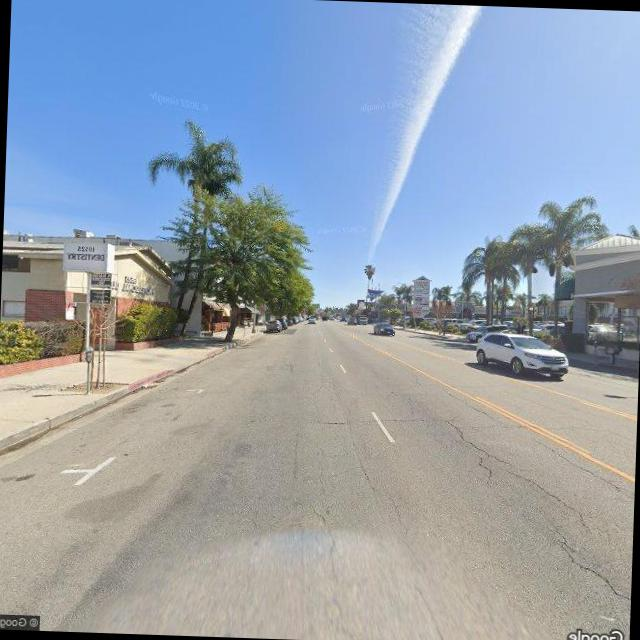pothole: (438, 413, 606, 517), (545, 524, 633, 625), (533, 437, 636, 500), (352, 454, 414, 532)
